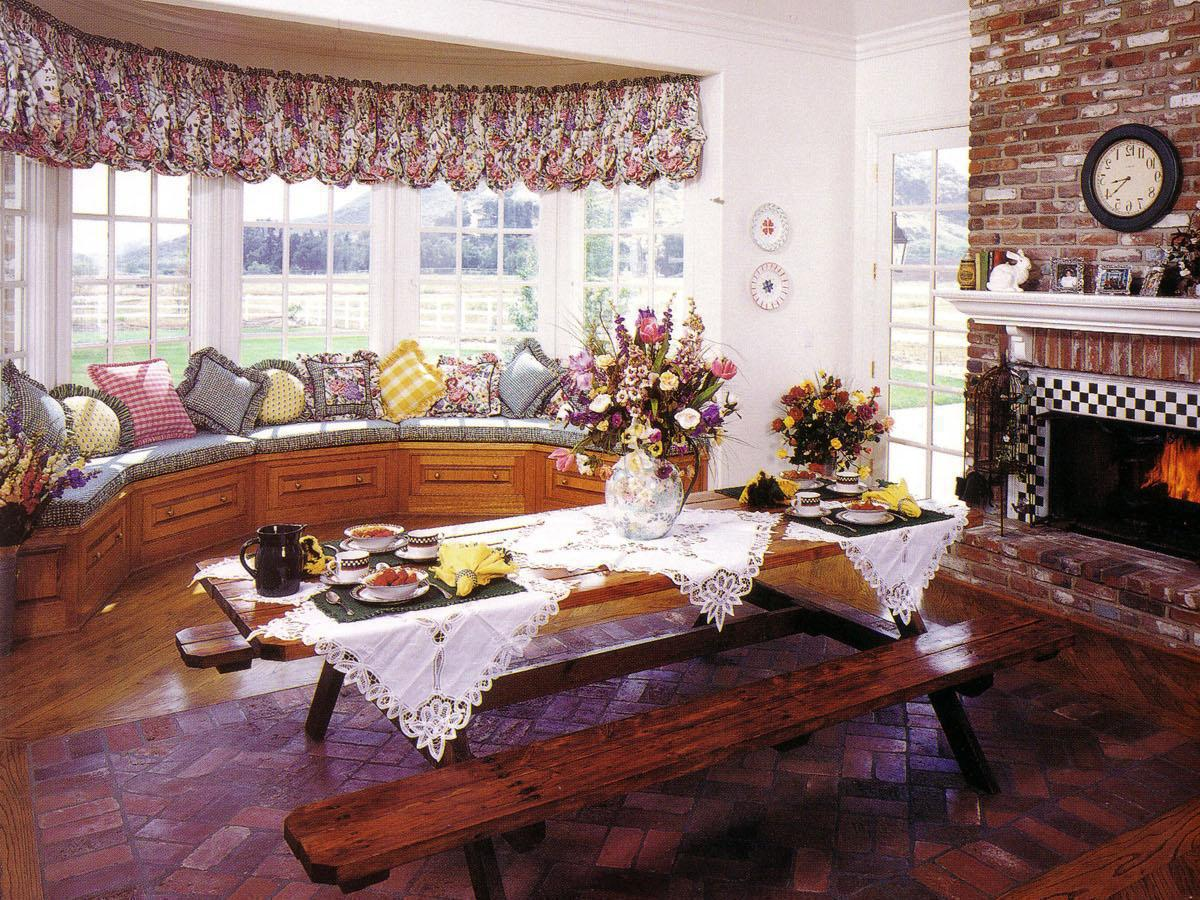Puerta: (873, 126, 961, 501)
Ventana: (61, 156, 216, 361), (398, 144, 550, 341), (227, 159, 383, 343), (568, 157, 694, 349)
